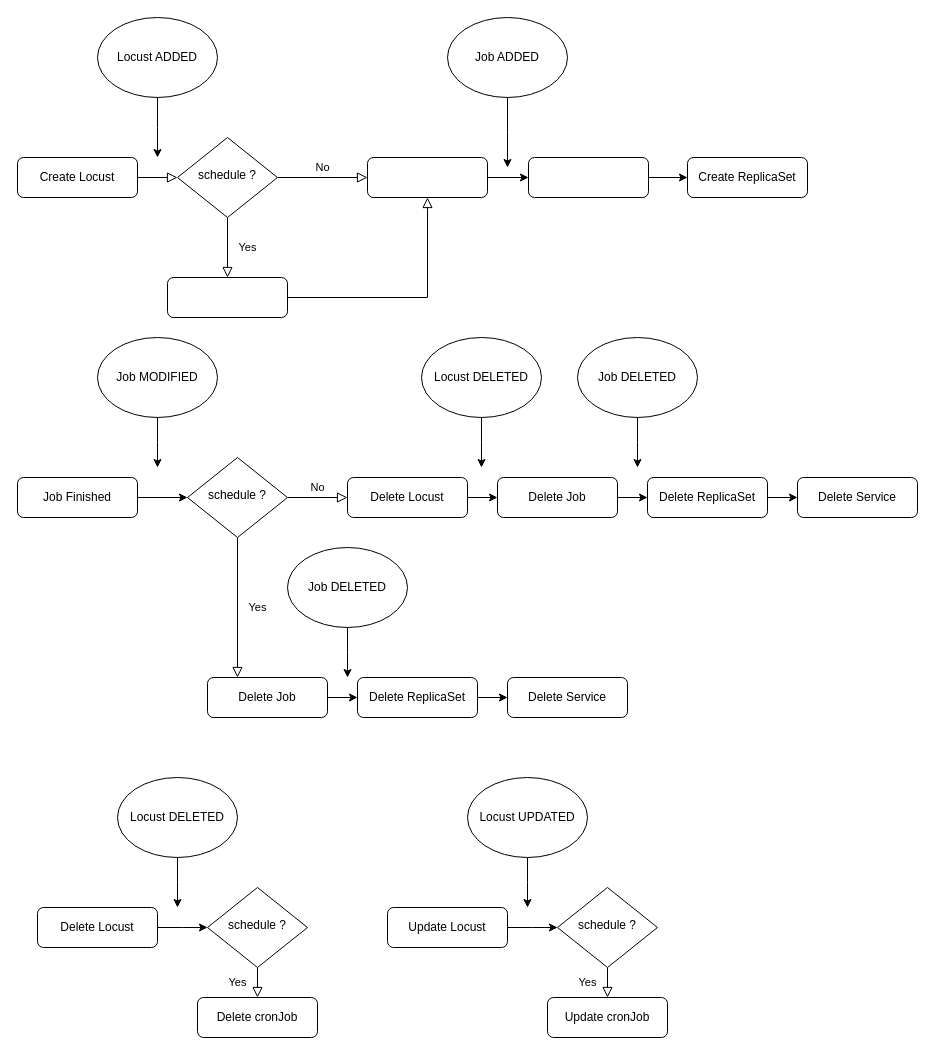
Some shapes in this 935 by 1055 pixel diagram are drawn without their labels. Each missing label, with the box of its shape:
Create Cronjob: (166, 276, 288, 318)
Create Job: (366, 156, 488, 198)
Create Service: (528, 156, 648, 198)
